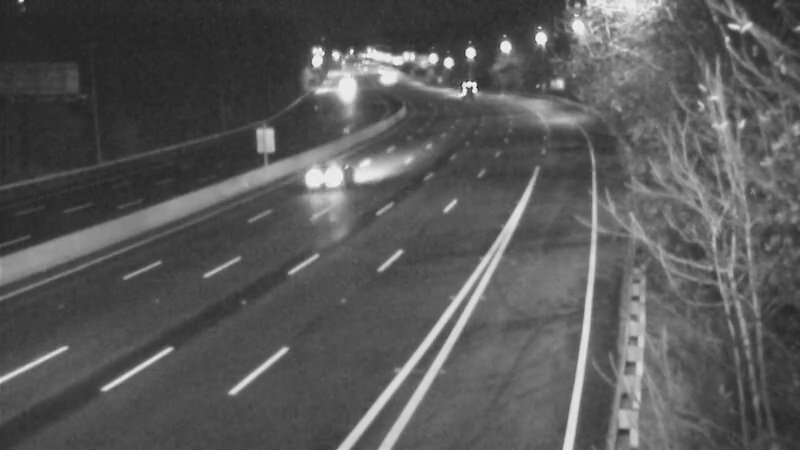vehicle: (284, 133, 364, 213), (358, 53, 408, 103), (440, 61, 490, 111), (319, 61, 369, 111)
